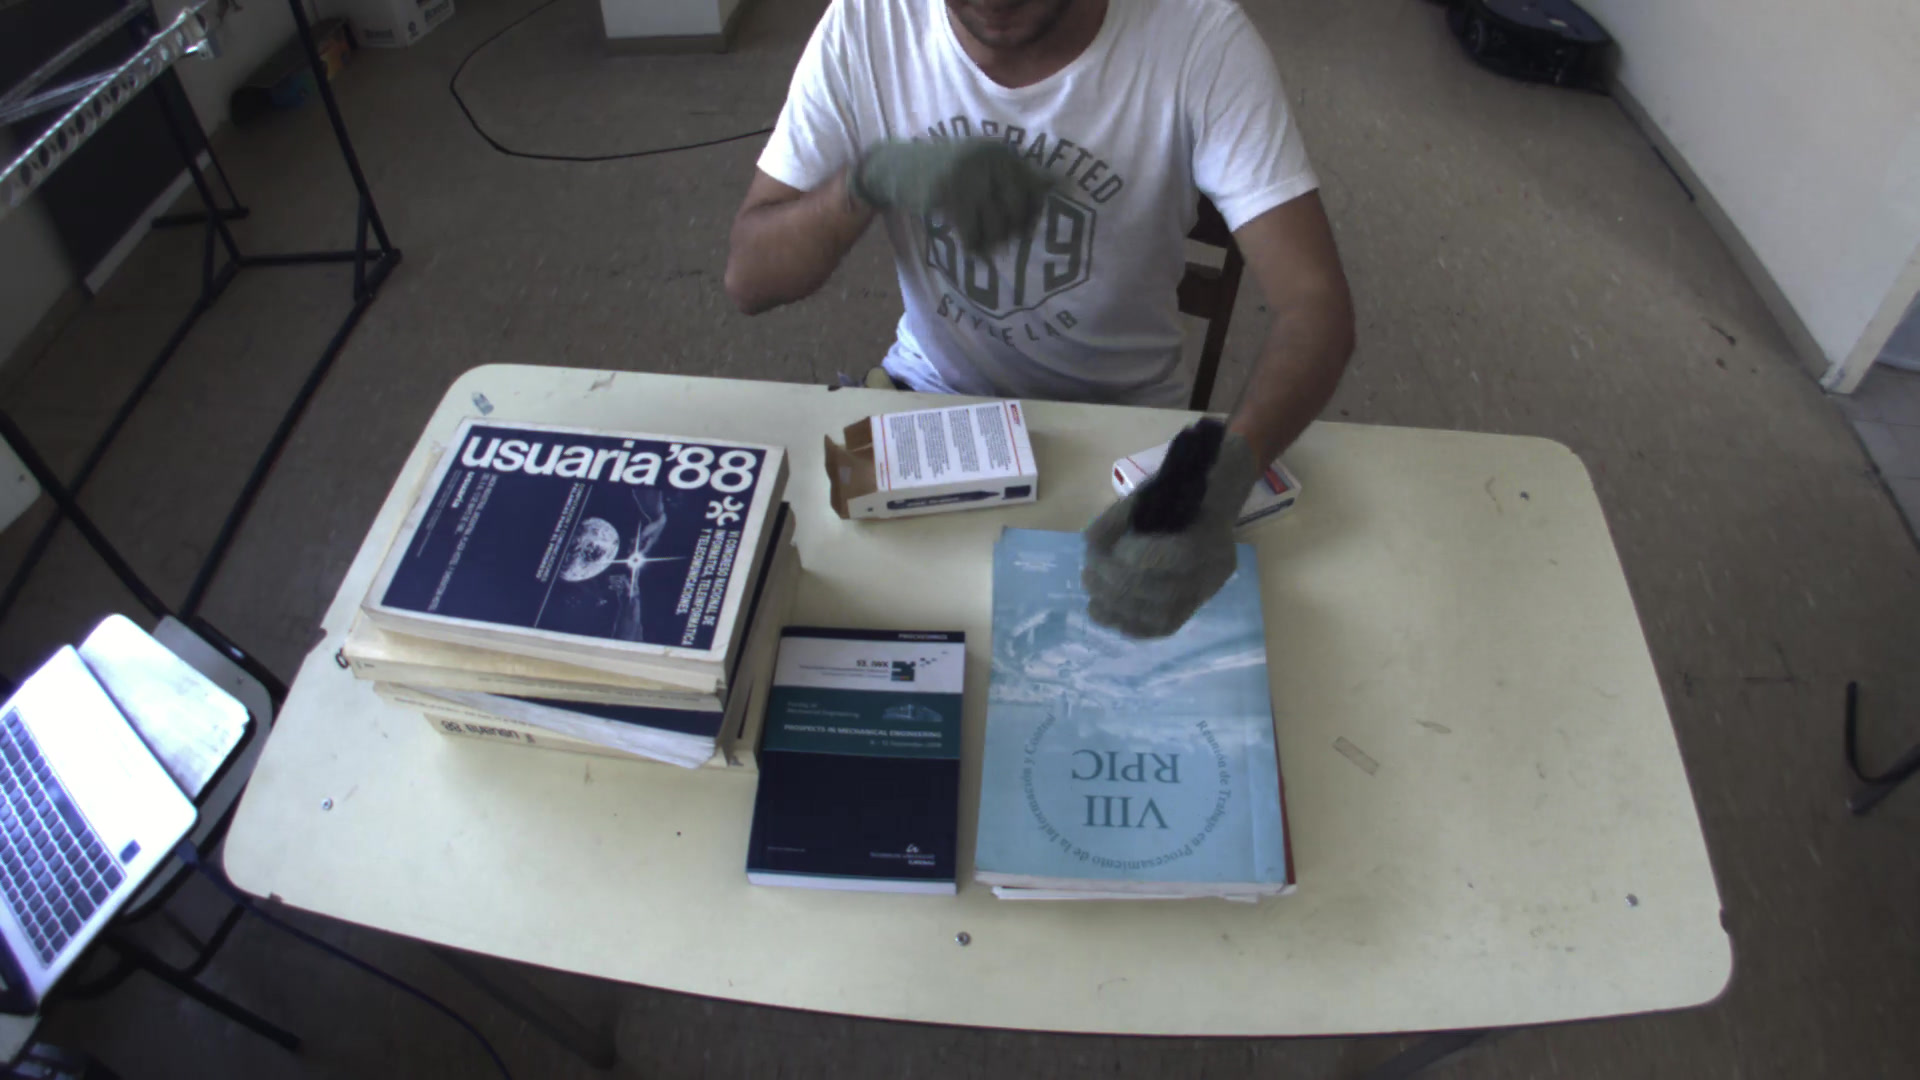hand: (1069, 409, 1302, 647), (847, 127, 1065, 232)
